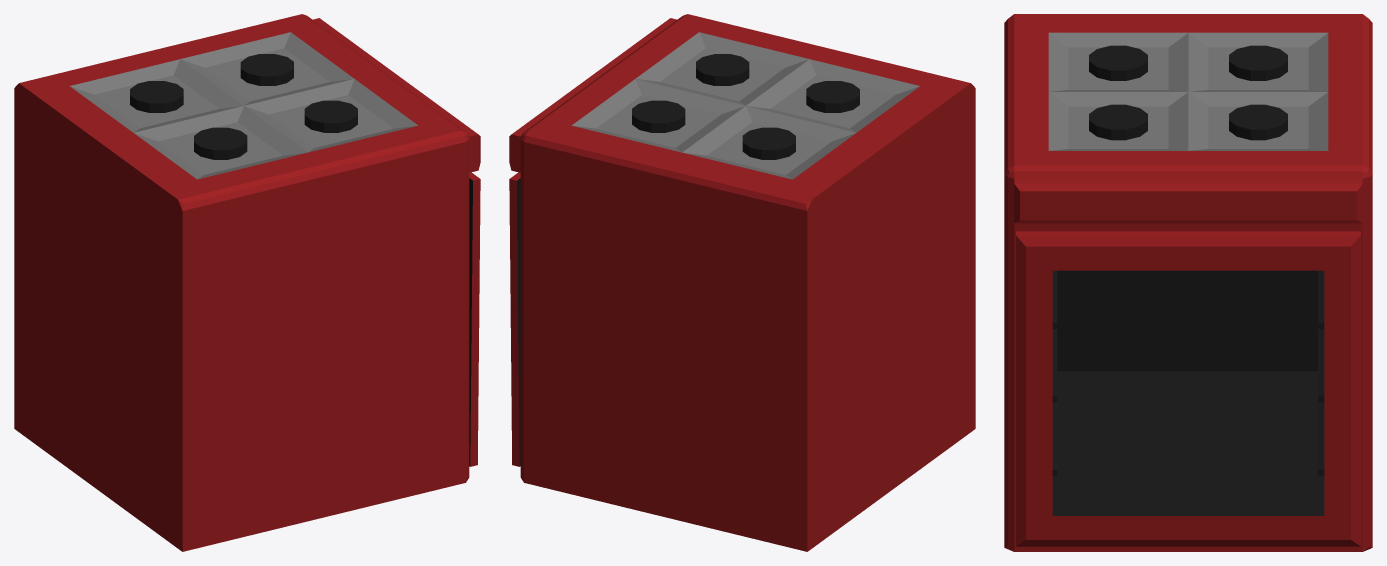
Rendered from horno2.glb.
3 renders of one model, left to right at view 1: azimuth 30°, elevation 25°; view 2: azimuth 150°, elevation 25°; view 3: azimuth 270°, elevation 25°, orthographic. The views are drawn at different scales.
Visible parts, largest first — view 1: Horno, Puerta; view 2: Horno, Puerta; view 3: Horno, Puerta.
Part boxes in pixels (left/top/right/bottom): Horno: left=14, top=14, right=480, bottom=551; Puerta: left=469, top=172, right=480, bottom=466; Horno: left=509, top=14, right=975, bottom=551; Puerta: left=509, top=172, right=520, bottom=466; Horno: left=1004, top=14, right=1372, bottom=551; Puerta: left=1016, top=231, right=1360, bottom=546.
Size of what is drawn, in the model's own units: 2.11 by 2.32 by 2.
3 materials, 1 textured.
